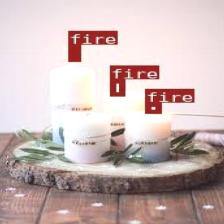fire: (109, 79, 124, 95), (68, 44, 79, 61), (144, 102, 160, 113)
